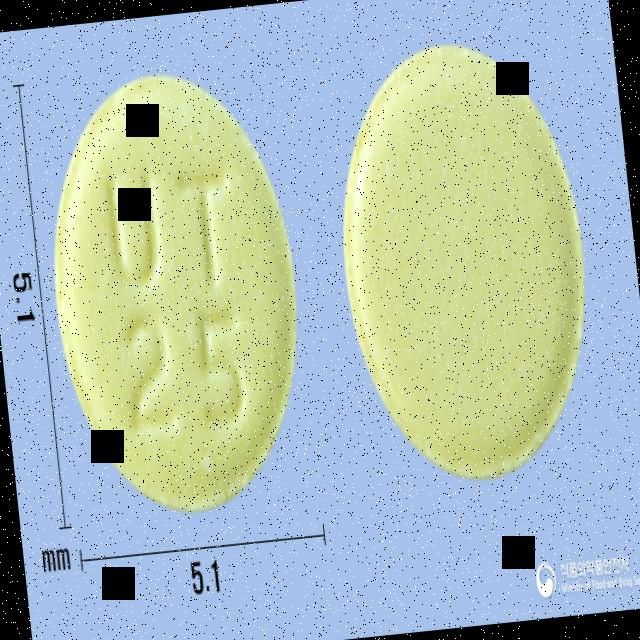Azaprine -25mg: (29, 57, 323, 529)
